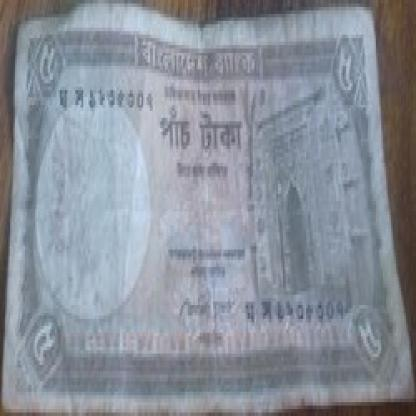Five Taka: (155, 100, 246, 160), (353, 309, 394, 382), (28, 309, 64, 382), (329, 35, 358, 111), (32, 31, 60, 90)
